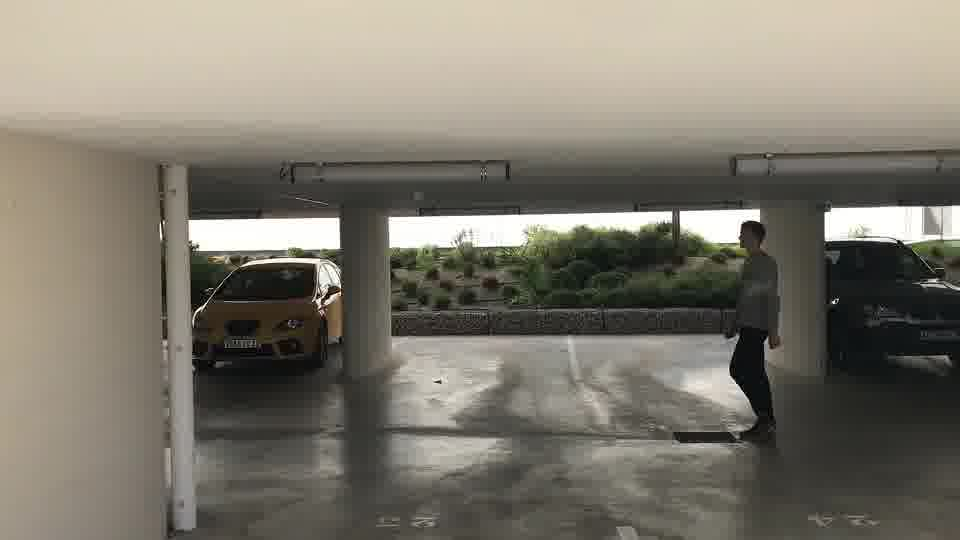jugador: (695, 219, 795, 448)
